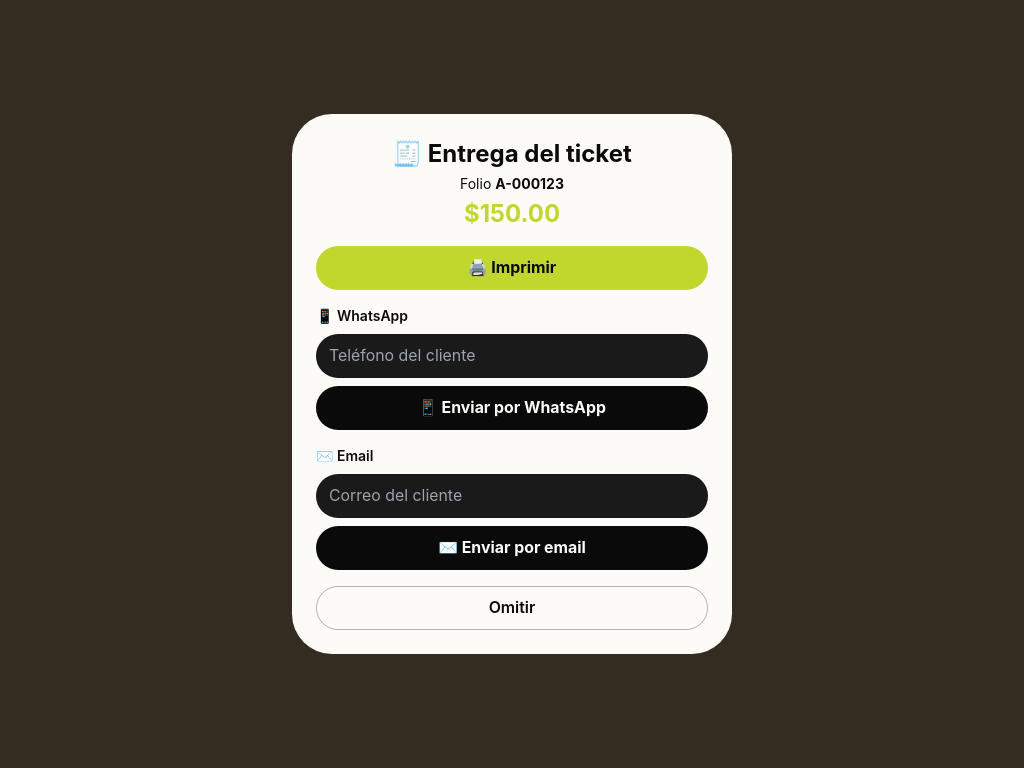
Test: F8.5 — TicketDeliveryPanel › criterio6: si la cola está caída, avisa sin revertir el cobro
Type "5512345678" into the field with id "input-telefono-entrega" at (512, 356), box x1=316 y1=334 x2=708 y2=378
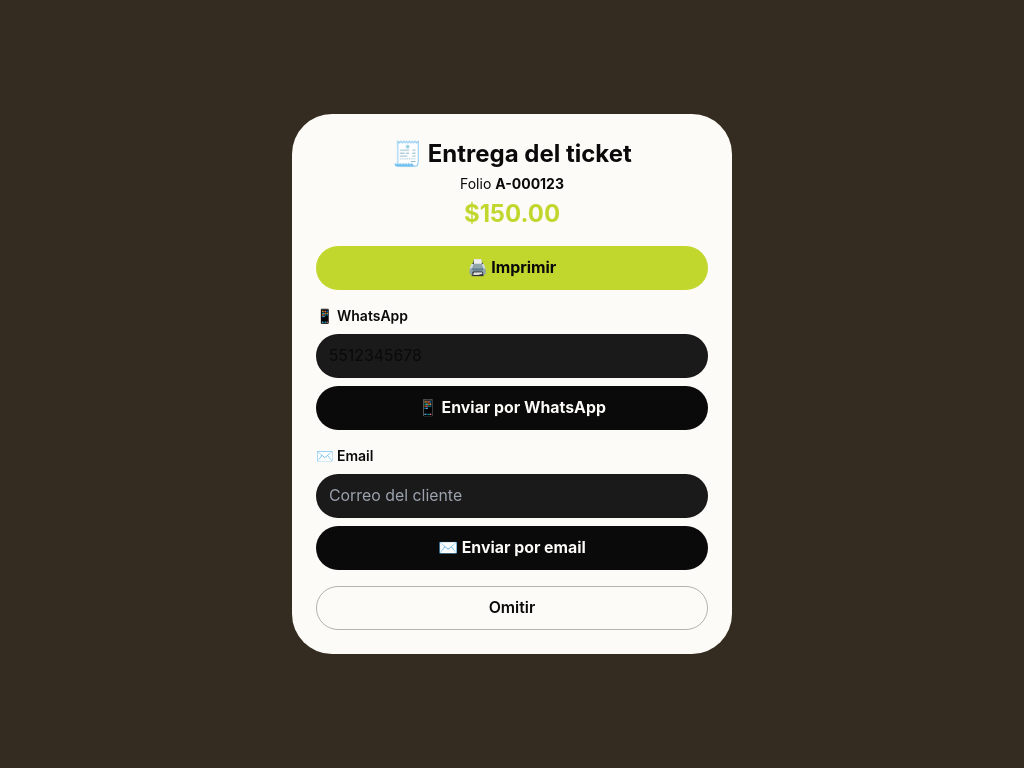
Click the button with id "btn-whatsapp" at (512, 408), box x1=316 y1=386 x2=708 y2=430
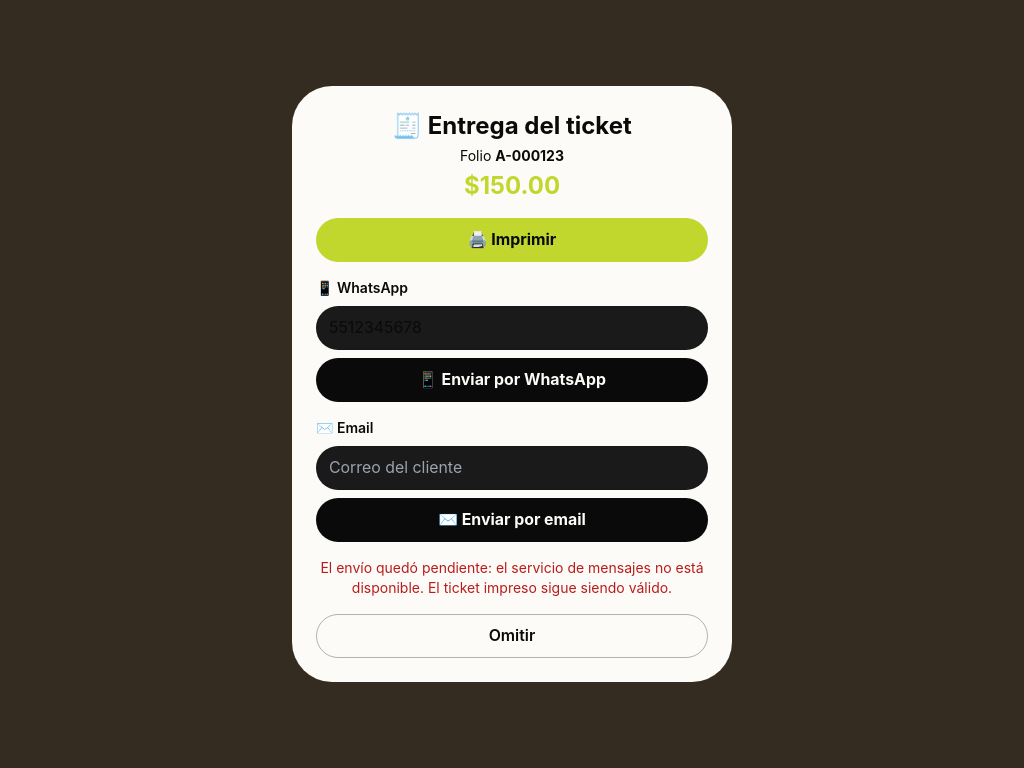
Expected: the dialog "Entrega del ticket" is shown, x1=292 y1=86 x2=732 y2=682
Expected: the message shows "quedó pendiente", x1=320 y1=559 x2=704 y2=596
